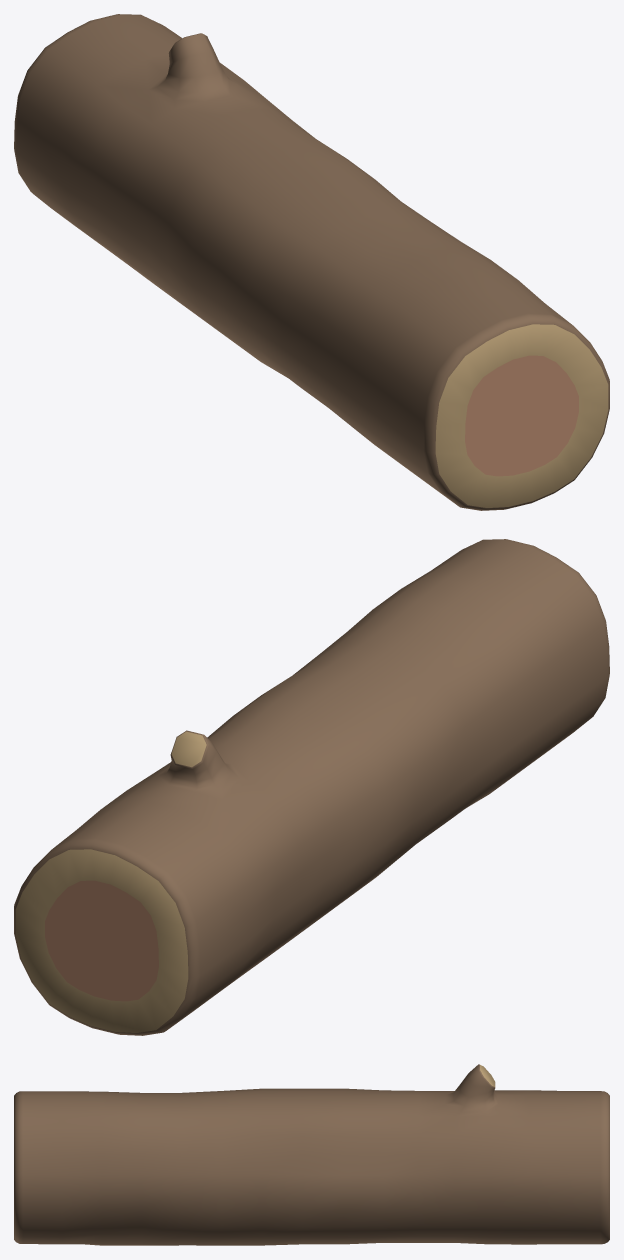
Rendered from log-1.fbx.
3 renders of one model, top to bottom at view 1: azimuth 30°, elevation 25°; view 2: azimuth 150°, elevation 25°; view 3: azimuth 270°, elevation 25°, orthographic. The views are drawn at different scales.
Visible parts, largest first — view 1: Log; view 2: Log; view 3: Log.
Part boxes in pixels (<box>): Log: <box>14,14,609,510</box>; Log: <box>14,539,609,1035</box>; Log: <box>14,1064,609,1245</box>.
Bounding box in the file's own units: 26.27 × 30.88 × 98.66.
